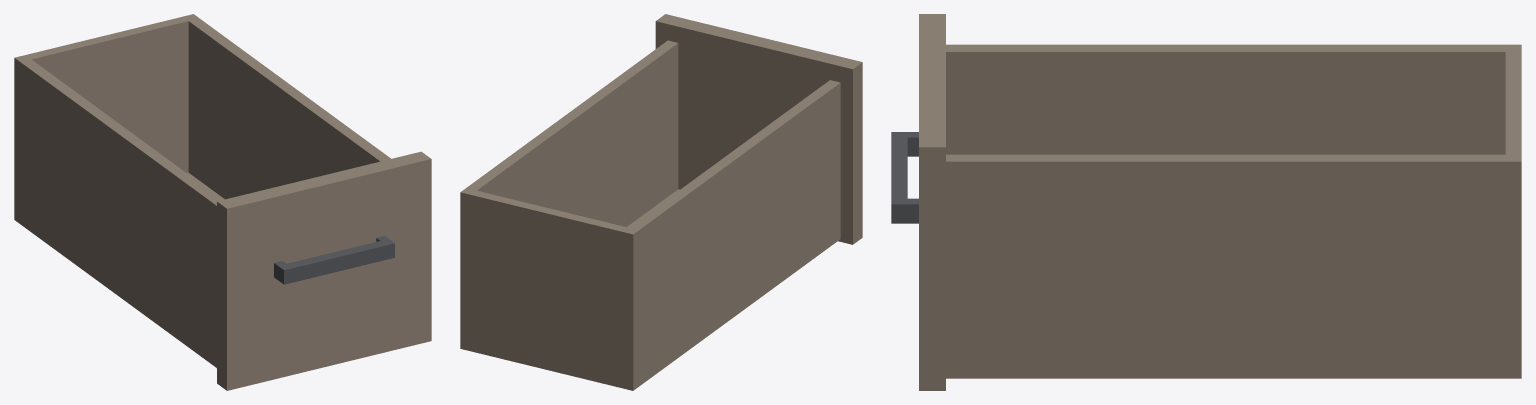
The model's file is Door2_C5_07.fbx.
3 renders of one model, left to right at view 1: azimuth 30°, elevation 25°; view 2: azimuth 150°, elevation 25°; view 3: azimuth 270°, elevation 25°, orthographic. The views are drawn at different scales.
Visible parts, largest first — view 1: Door2_C5_07; view 2: Door2_C5_07; view 3: Door2_C5_07.
Part boxes in pixels (x1,y1,x2,y2): Door2_C5_07: (14, 14, 431, 390); Door2_C5_07: (460, 14, 862, 390); Door2_C5_07: (891, 14, 1521, 390).
Size of the model in its own units: 29 by 24.68 by 57.89.
